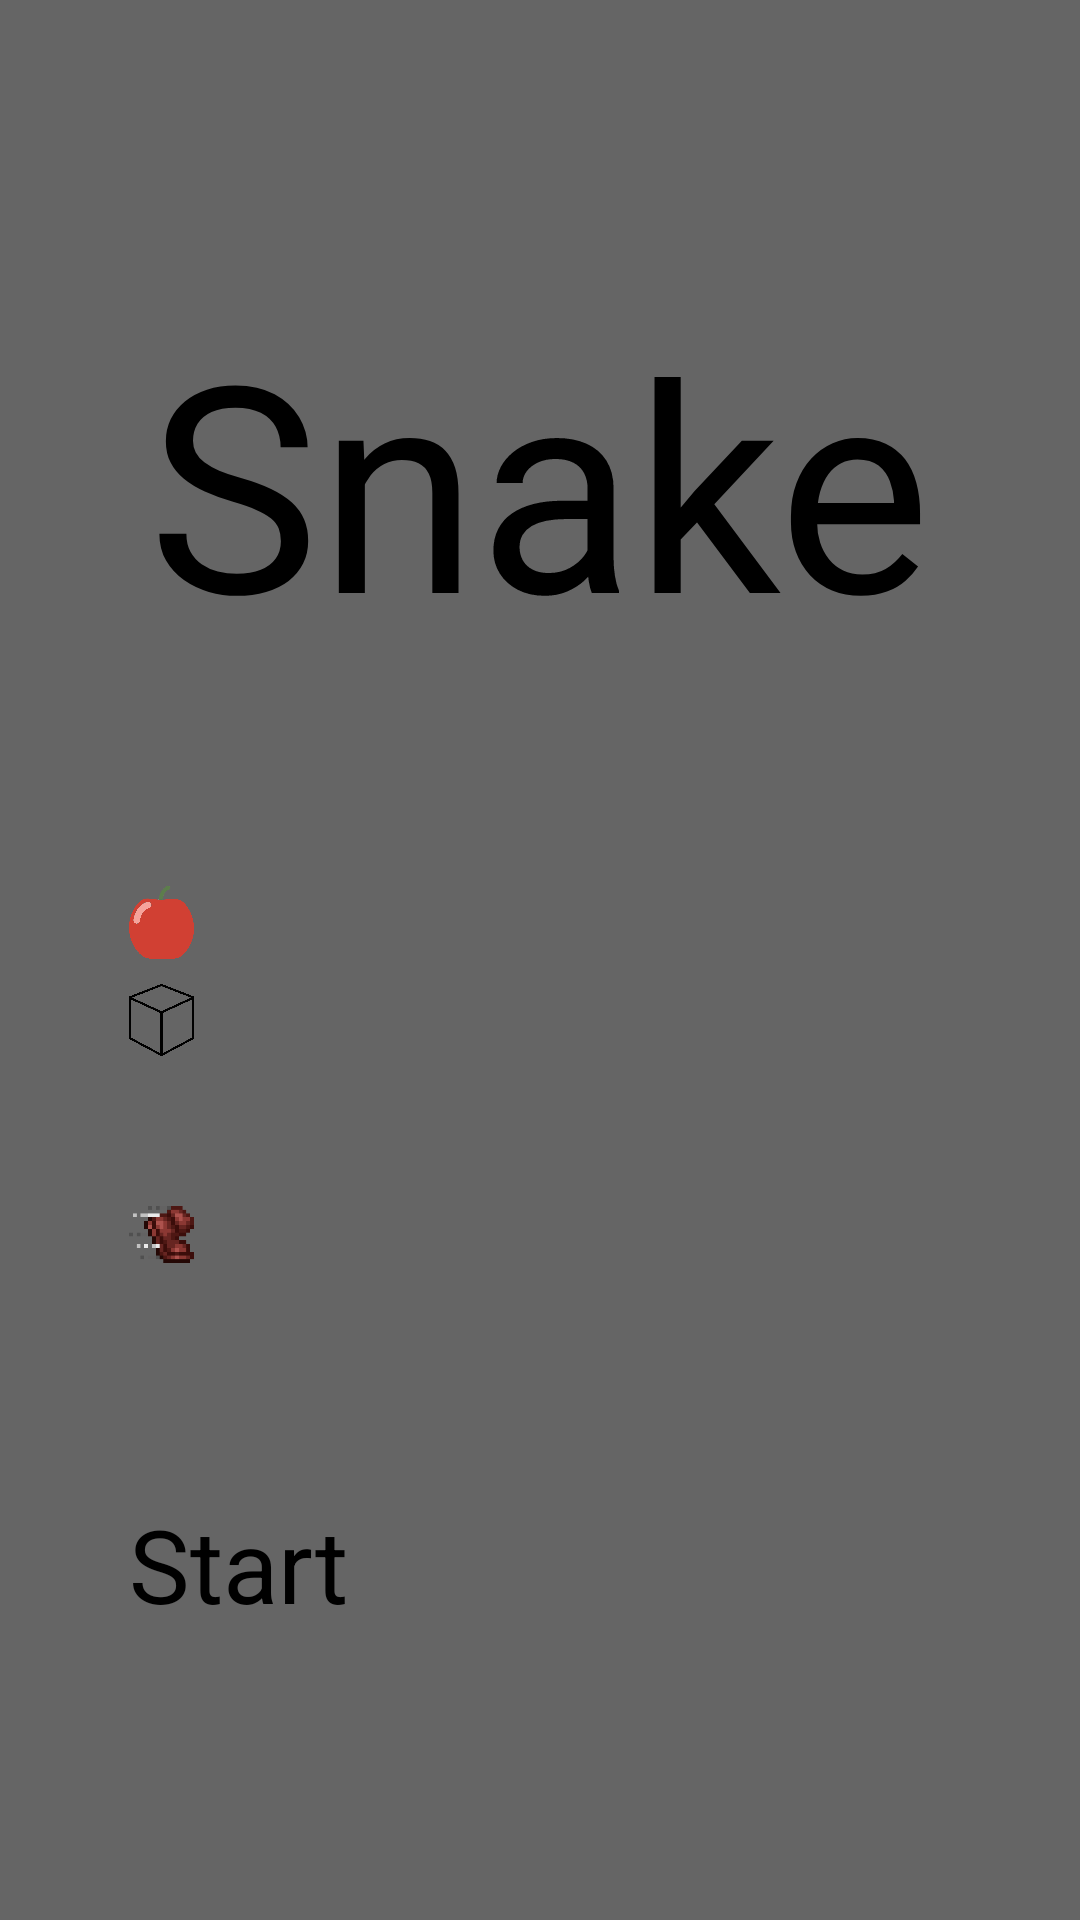

Point at icon controls on the screen. Image size 1080w x 1920h, points as (x,y).
apple: (161,922)
cube: (161,1020)
speed: (163,1234)
